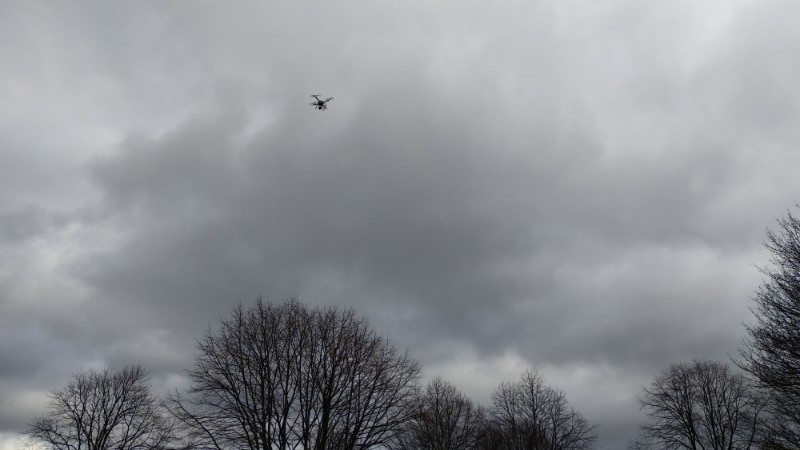drone: (310, 93, 333, 112)
